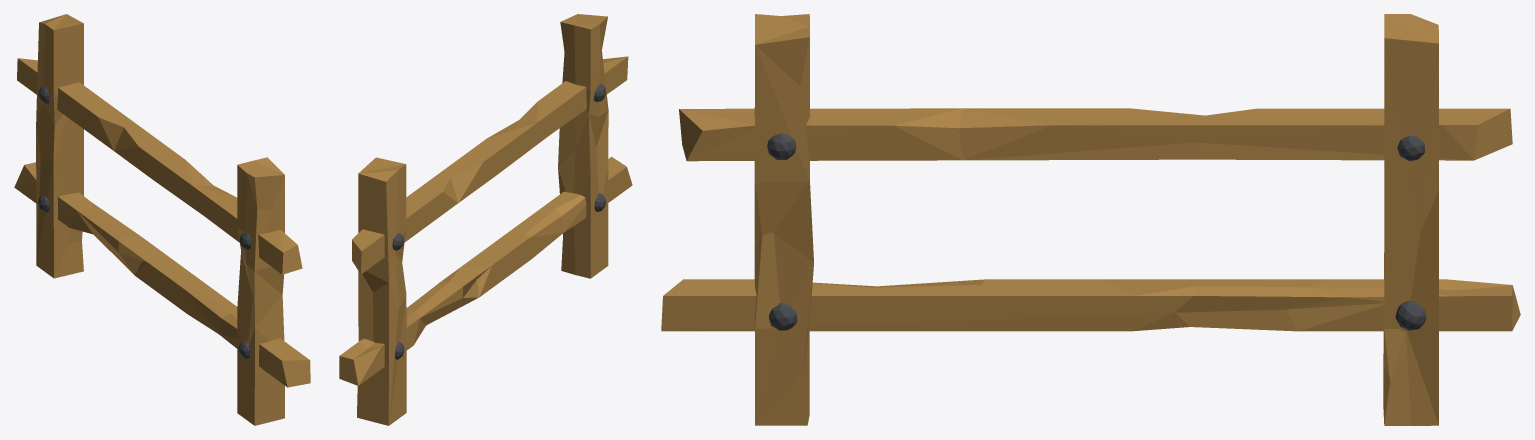
File: fence1.fbx
The picture shows the model from 3 angles, left to right: view 1: azimuth 30°, elevation 25°; view 2: azimuth 150°, elevation 25°; view 3: azimuth 270°, elevation 25°; orthographic projection. The views are drawn at different scales.
Parts seen in each view (by area): view 1: Fence1; view 2: Fence1; view 3: Fence1.
Part boxes in pixels (<box>): Fence1: <box>14,14,310,425</box>; Fence1: <box>339,14,632,425</box>; Fence1: <box>661,14,1520,425</box>.
Size of the model in its own units: 40.84 by 235 by 472.
